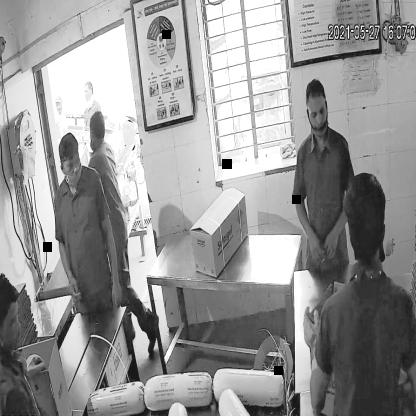no_goggles: (302, 99, 329, 123), (58, 151, 82, 176)
